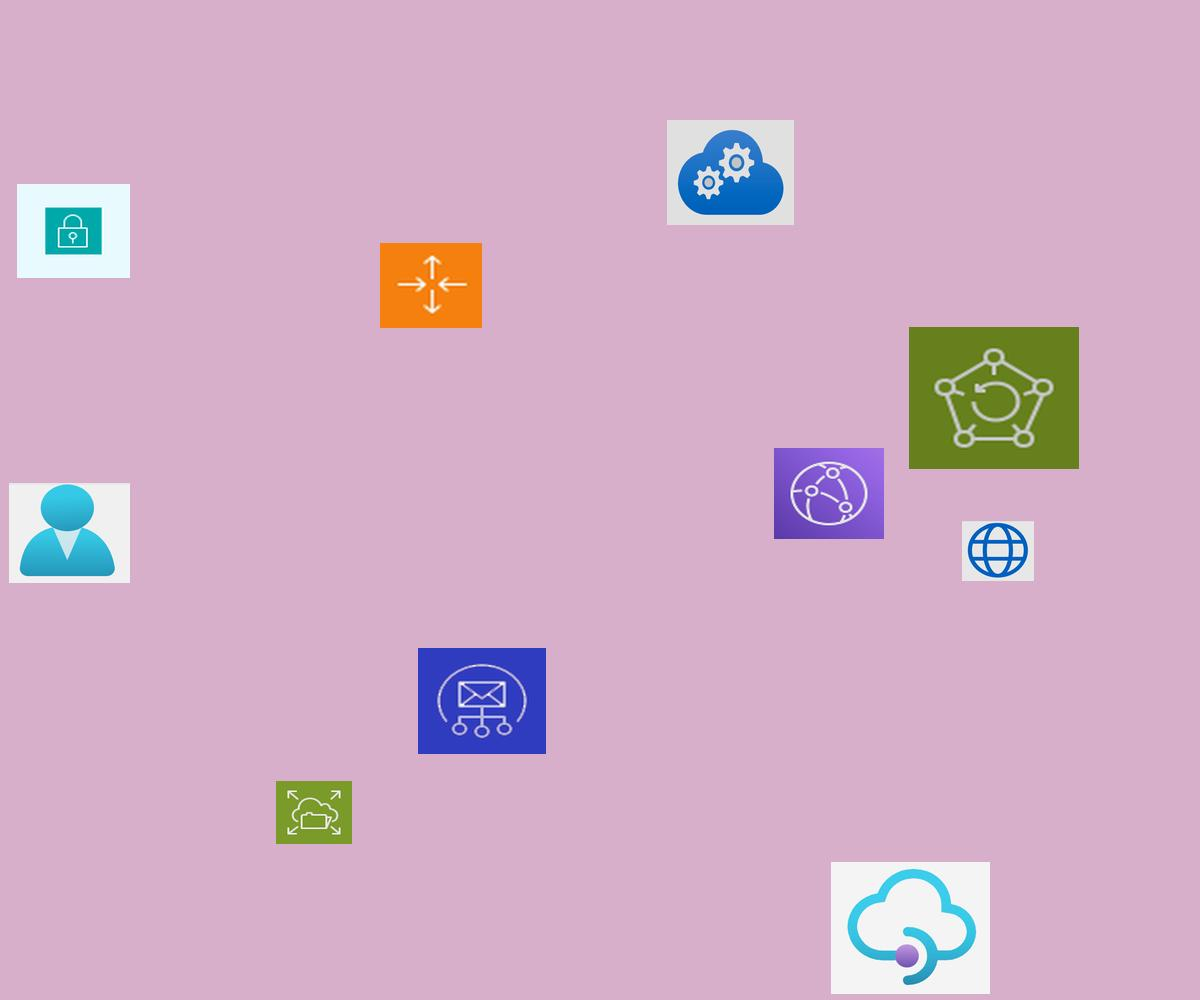AWS-Backup: (909, 327, 1079, 469)
AWS-CloudFront: (774, 448, 884, 539)
AWS-EFS: (276, 781, 352, 844)
AWS-Private-subnet: (17, 184, 130, 278)
AWS-Scaling-group: (380, 243, 482, 328)
AWS-Simple-Email-Service: (418, 648, 546, 754)
Azure_api_gateway: (831, 862, 990, 994)
Azure_cloud_services: (667, 120, 794, 225)
Azure_http: (962, 521, 1034, 581)
Azure_users: (9, 483, 130, 583)
